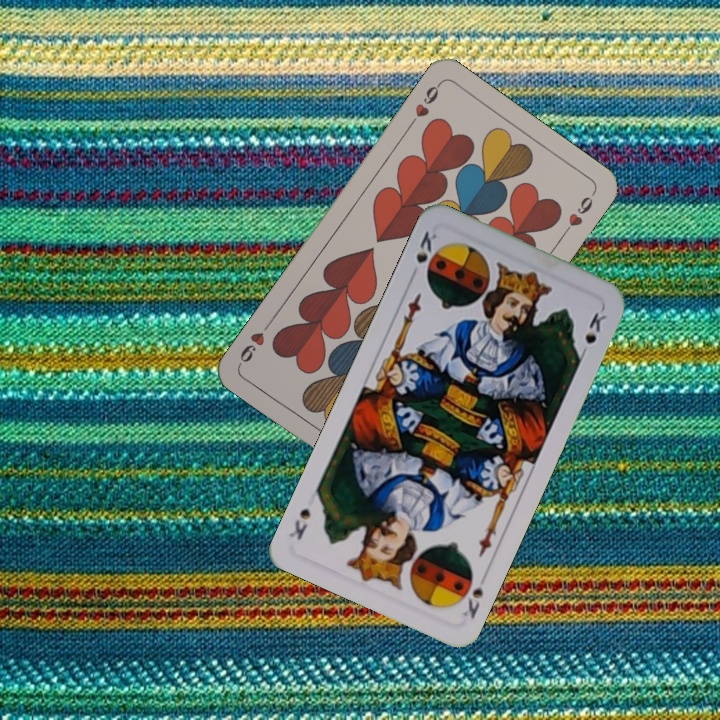H9: (404, 79, 443, 131)
SK: (454, 567, 486, 622), (412, 227, 440, 266)
